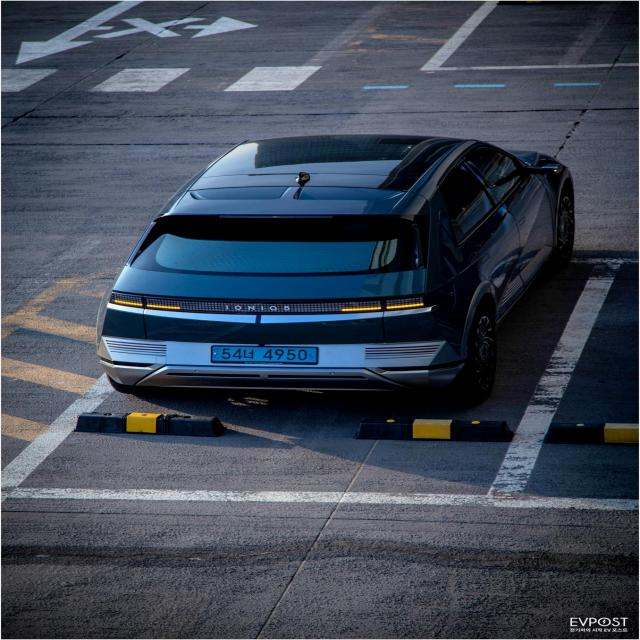EV_plate: (214, 341, 322, 371)
car: (96, 130, 575, 414)
